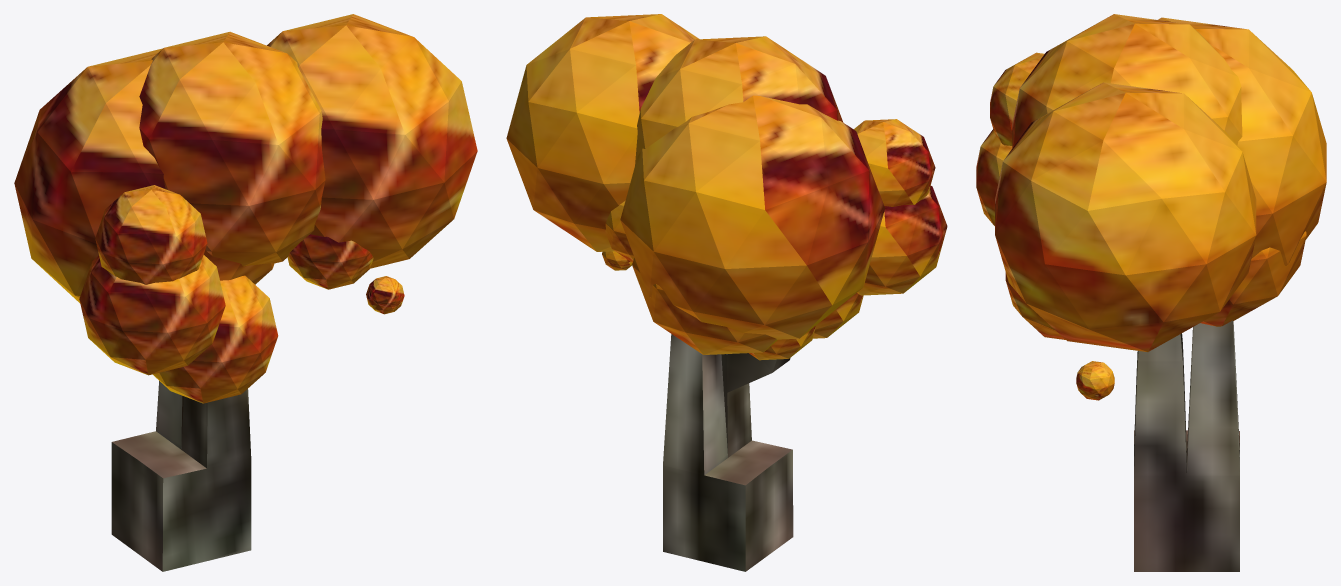
File: Tree8.fbx
3 renders of one model, left to right at view 1: azimuth 30°, elevation 25°; view 2: azimuth 150°, elevation 25°; view 3: azimuth 270°, elevation 25°, orthographic. The views are drawn at different scales.
Visible parts, largest first — view 1: Tree 8; view 2: Tree 8; view 3: Tree 8.
Boxes of the visible parts, left/top/right/bottom form: Tree 8: left=14, top=14, right=477, bottom=571; Tree 8: left=506, top=14, right=947, bottom=571; Tree 8: left=976, top=14, right=1326, bottom=571.
Bounding box in the file's own units: 660 × 924 × 1111.
